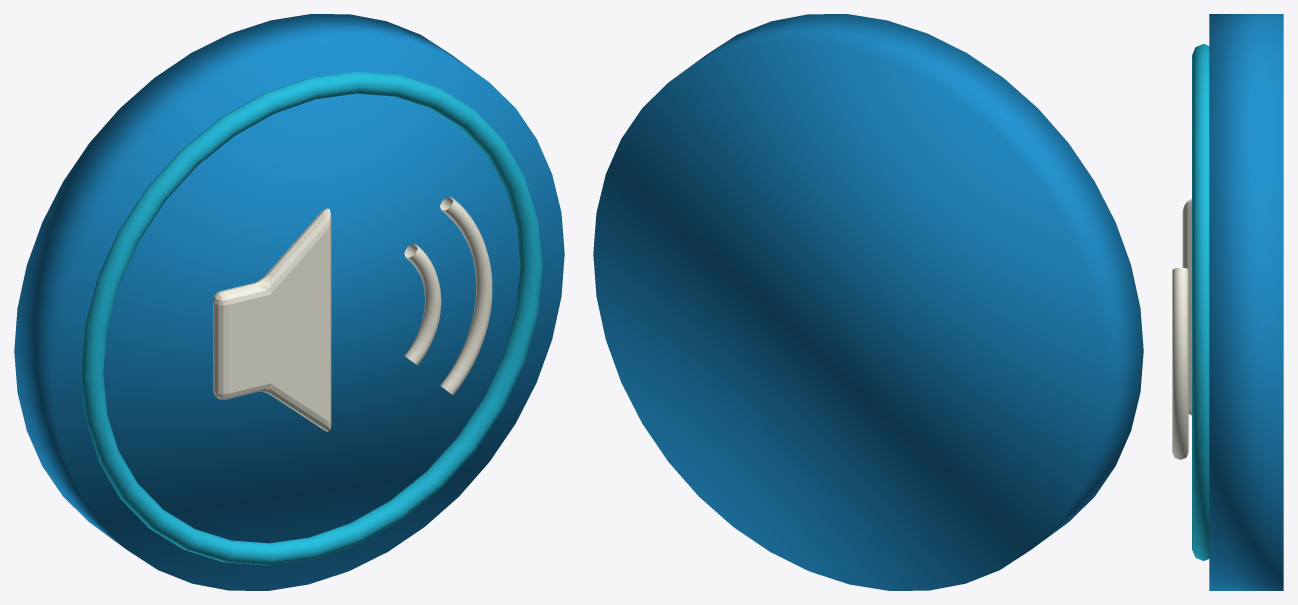
Rendered from sound_button.glb.
3 views of the same model, side by side, from view 1: azimuth 30°, elevation 25°; view 2: azimuth 150°, elevation 25°; view 3: azimuth 270°, elevation 25° (orthographic). The views are drawn at different scales.
Parts seen in each view (by area): view 1: sound_button; view 2: sound_button; view 3: sound_button.
Part boxes in pixels (left/top/right/bottom): sound_button: left=14, top=14, right=564, bottom=590; sound_button: left=593, top=14, right=1143, bottom=590; sound_button: left=1172, top=14, right=1283, bottom=590.
Bounding box in the file's own units: 0.7 × 0.7 × 0.135.
